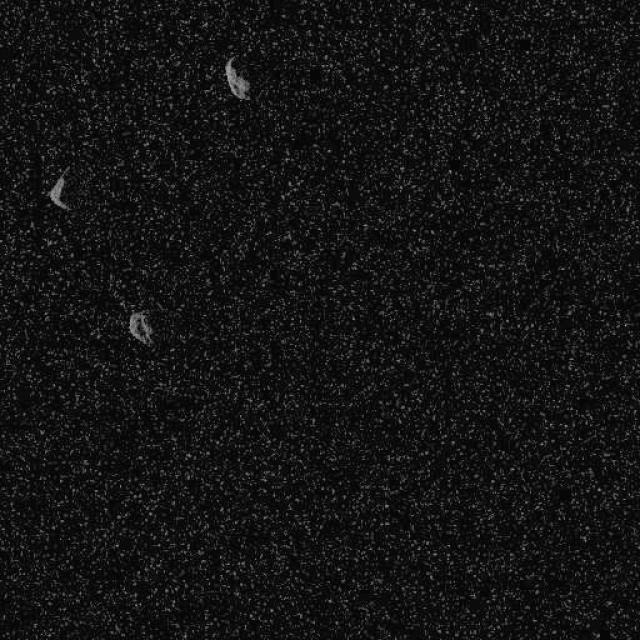D2: (224, 54, 251, 101), (44, 166, 71, 210), (128, 310, 152, 345)
